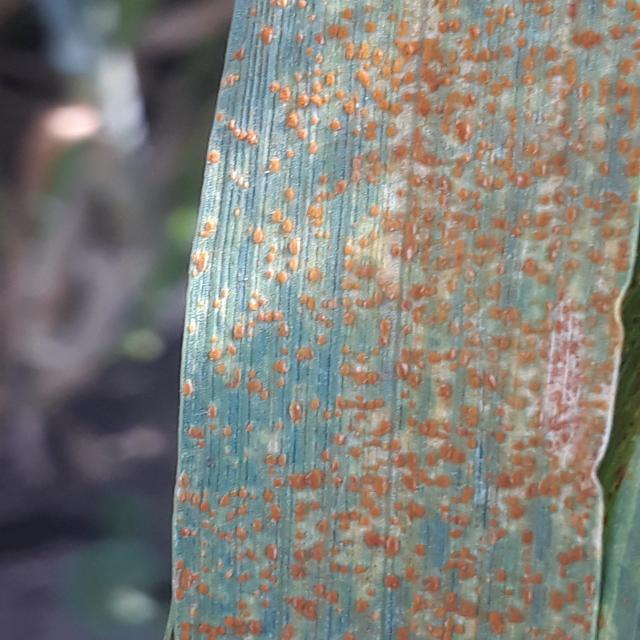orang_rust: (159, 0, 640, 639)
